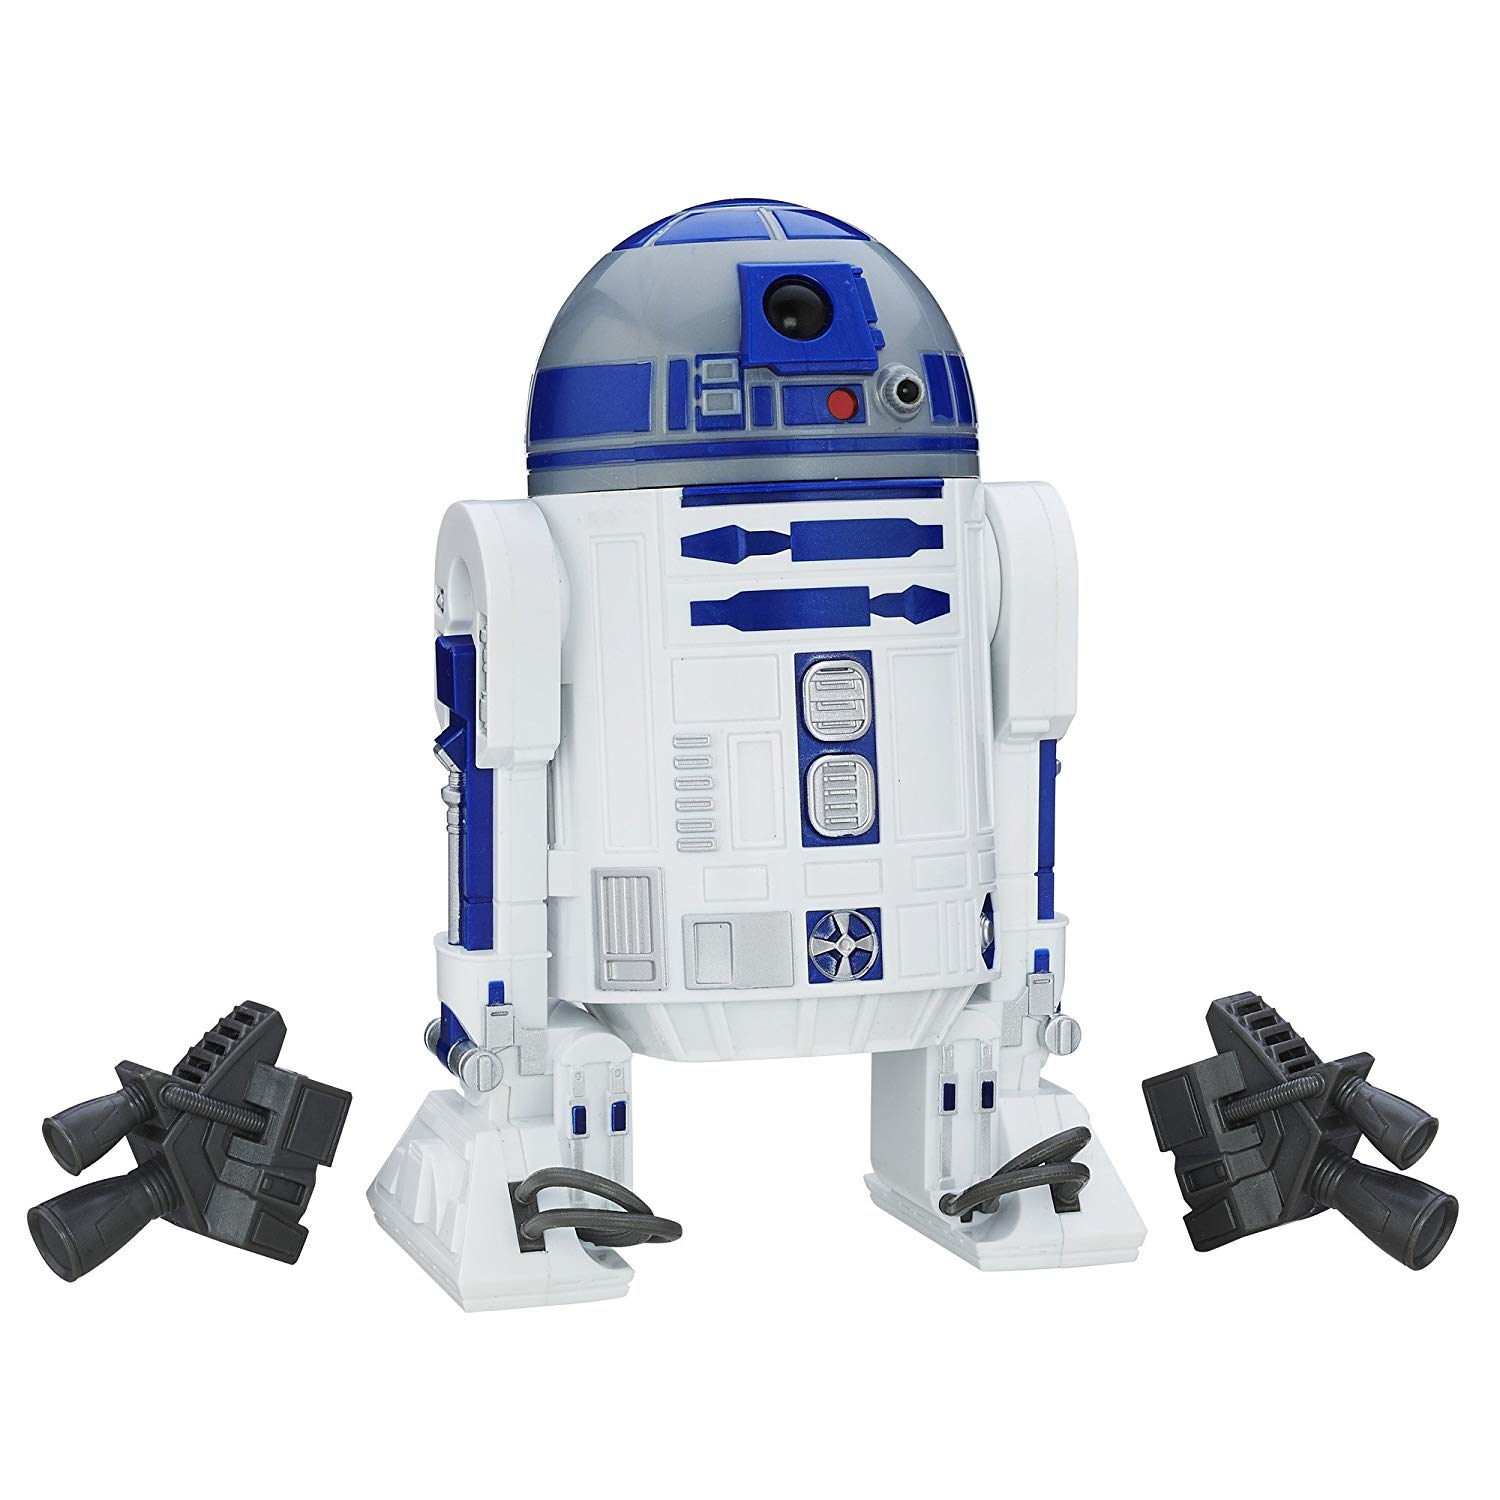r2d2: (416, 199, 1140, 1293)
